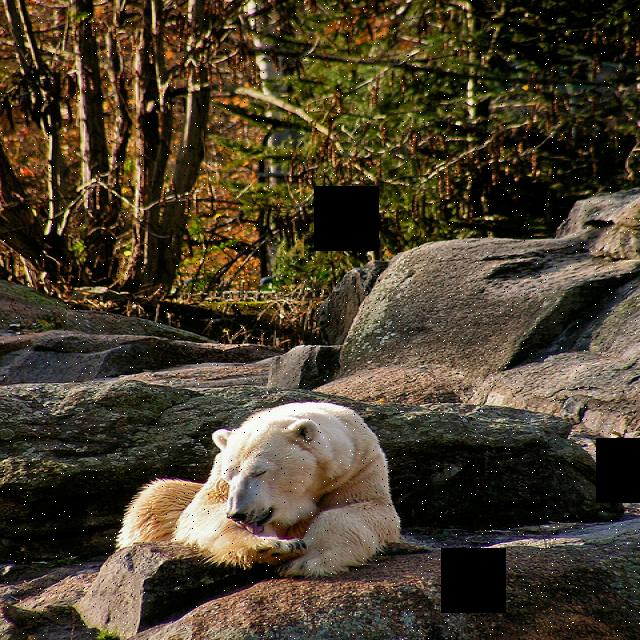Bear: (102, 391, 411, 573)
